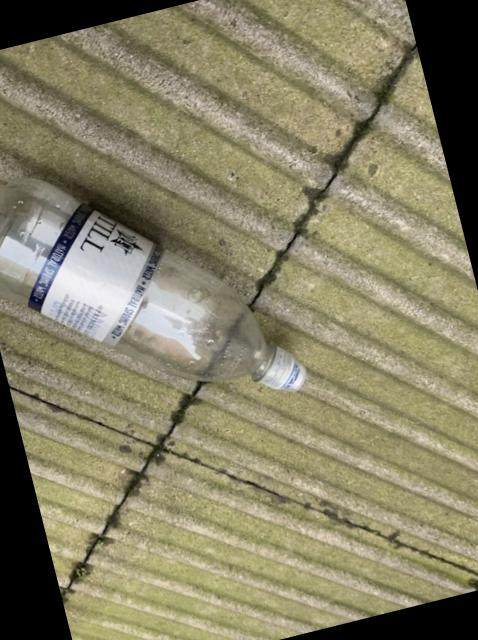plastic: (0, 180, 307, 392)
